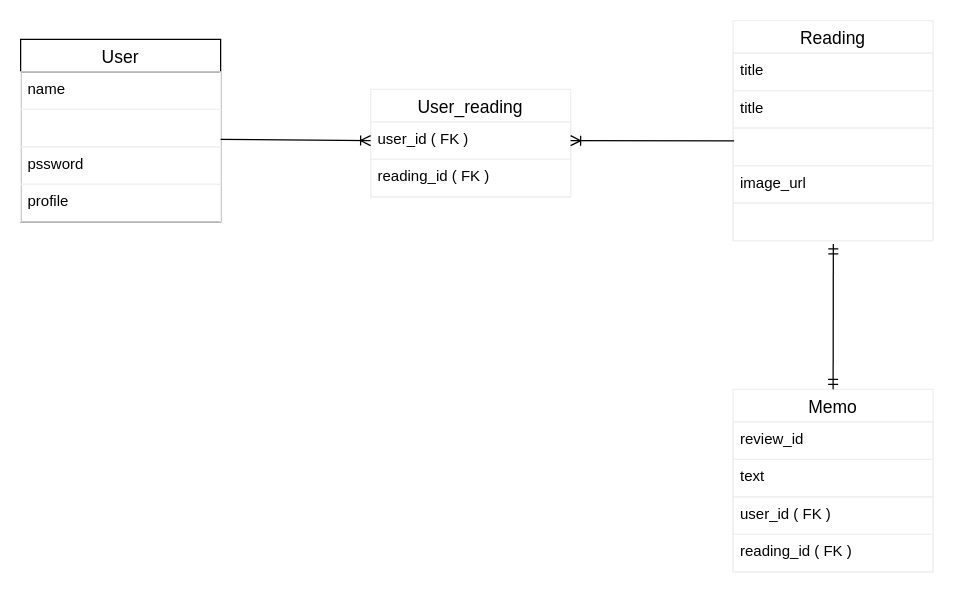
Some shapes in this 954 by 593 pixel diagram are drawn without their labels. The shapes that lost their labels are listed below. From the top down, each one's centre as x and y in pixels, then its label:
At point 120,127: "email".
At point 832,146: "author".
At point 832,221: "url".
